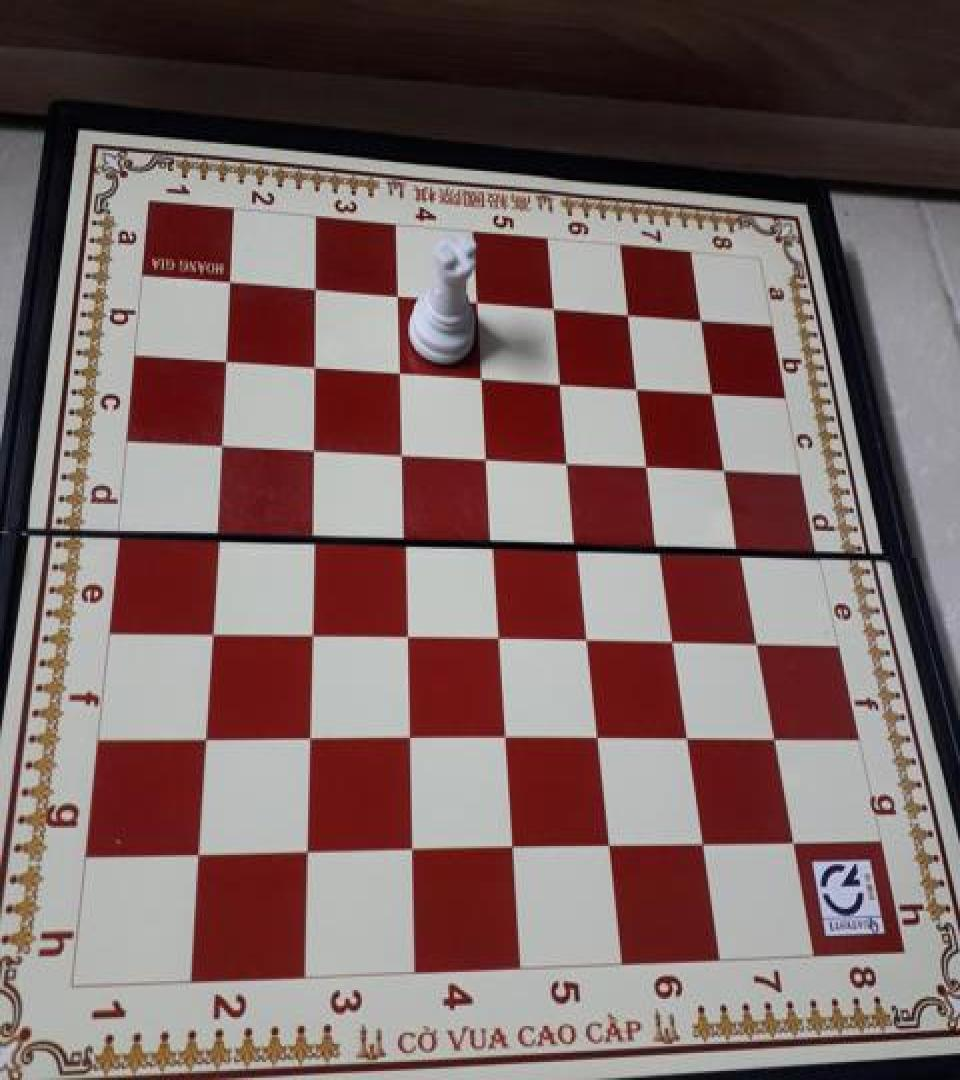xcorner: (685, 303, 719, 341), (613, 296, 647, 334), (538, 289, 572, 327), (462, 282, 496, 320), (382, 276, 416, 314), (301, 268, 335, 306), (216, 260, 250, 298), (697, 374, 731, 412), (623, 368, 657, 406), (546, 362, 580, 400), (466, 357, 500, 395), (384, 350, 418, 388), (299, 344, 333, 382), (212, 338, 246, 376), (710, 450, 744, 488), (633, 446, 667, 484), (554, 441, 588, 479), (471, 436, 505, 474), (386, 431, 420, 469), (298, 426, 332, 464), (207, 421, 241, 459), (724, 532, 758, 570), (645, 529, 679, 567), (562, 526, 596, 564), (477, 522, 511, 560), (388, 518, 422, 556), (297, 514, 331, 552), (202, 510, 236, 548), (740, 620, 774, 658), (657, 619, 691, 657), (571, 616, 605, 654), (483, 614, 517, 652), (391, 612, 425, 650), (295, 610, 329, 648), (196, 608, 230, 646), (756, 716, 790, 754), (670, 716, 704, 754), (581, 716, 615, 754), (489, 714, 523, 752), (393, 714, 427, 752), (293, 714, 327, 752), (190, 714, 224, 752), (774, 819, 808, 857), (685, 822, 719, 860), (592, 822, 626, 860), (496, 825, 530, 863), (396, 827, 430, 865), (292, 828, 326, 866), (183, 830, 217, 868)
